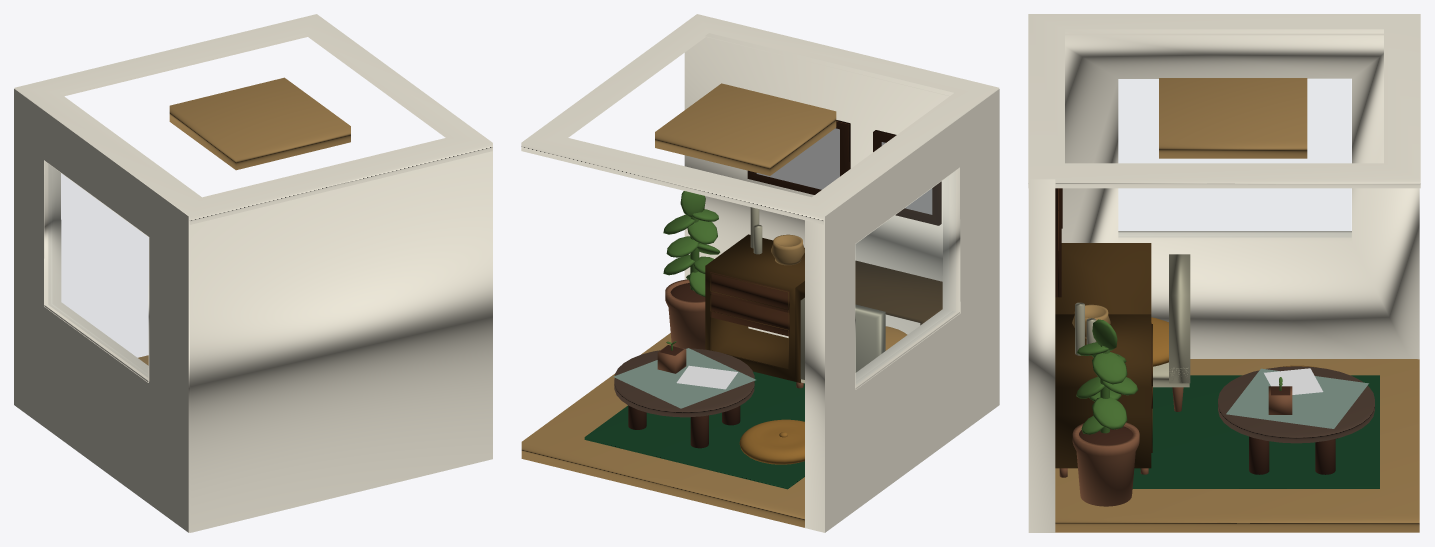
The model's file is Room Cube.glb.
3 views of the same model, side by side, from view 1: azimuth 30°, elevation 25°; view 2: azimuth 150°, elevation 25°; view 3: azimuth 270°, elevation 25° (orthographic). The views are drawn at different scales.
Parts seen in each view (by area): view 1: Walls, Ceiling, Window, Light Mount; view 2: Walls, Ceiling, Window, Floor, Light Mount, Carpet, Drawer, Table, Top, Cloth, Seat Pillow.001, Painting 01 (+11 smaller); view 3: Walls, Ceiling, Floor, Window, Carpet, Light Mount, Drawer, Table, Top, Cloth, Pot, Back Rest (+12 smaller).
Boxes of the visible parts, x1,y1,x2,y2 form: Walls: (14,88,492,532); Ceiling: (14,14,492,224); Window: (49,165,148,376); Light Mount: (169,77,350,170); Walls: (684,33,999,532); Ceiling: (521,14,999,224); Window: (856,177,954,383); Floor: (521,333,804,527); Light Mount: (655,83,836,175); Carpet: (584,371,804,489); Drawer: (705,234,804,381); Table: (795,260,942,383); Top: (614,348,754,417); Cloth: (613,348,755,408); Seat Pillow.001: (739,419,804,464); Painting 01: (756,128,839,189); Walls: (1028,29,1419,532); Ceiling: (1028,14,1420,188); Floor: (1055,359,1419,532); Window: (1119,79,1350,236); Carpet: (1132,375,1379,488); Light Mount: (1159,78,1307,158); Drawer: (1055,314,1152,468); Table: (1055,243,1151,314); Top: (1218,366,1374,443); Cloth: (1226,368,1368,428); Pot: (1072,422,1139,506); Back Rest: (1169,254,1190,383).
Bounding box in the file's own units: 3.09 × 3.07 × 3.09.
